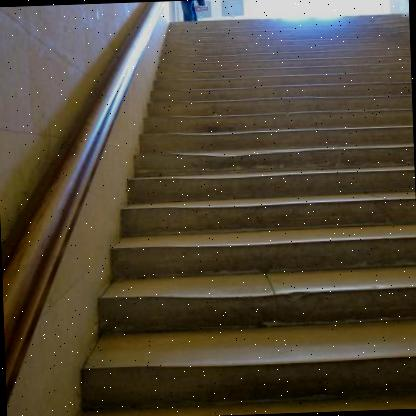stair: (79, 10, 416, 416)
